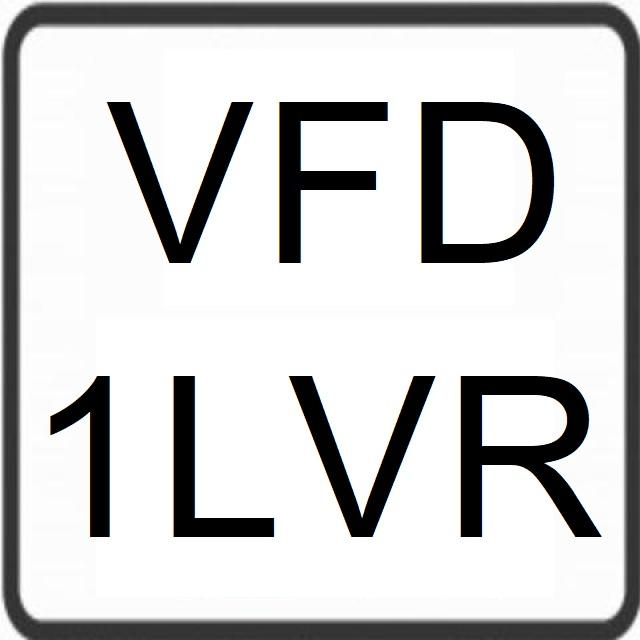1: (49, 368, 123, 536)
D: (417, 90, 562, 271)
F: (272, 92, 396, 270)
L: (167, 367, 284, 545)
R: (453, 368, 604, 542)
V: (105, 95, 258, 271), (290, 368, 439, 545)
